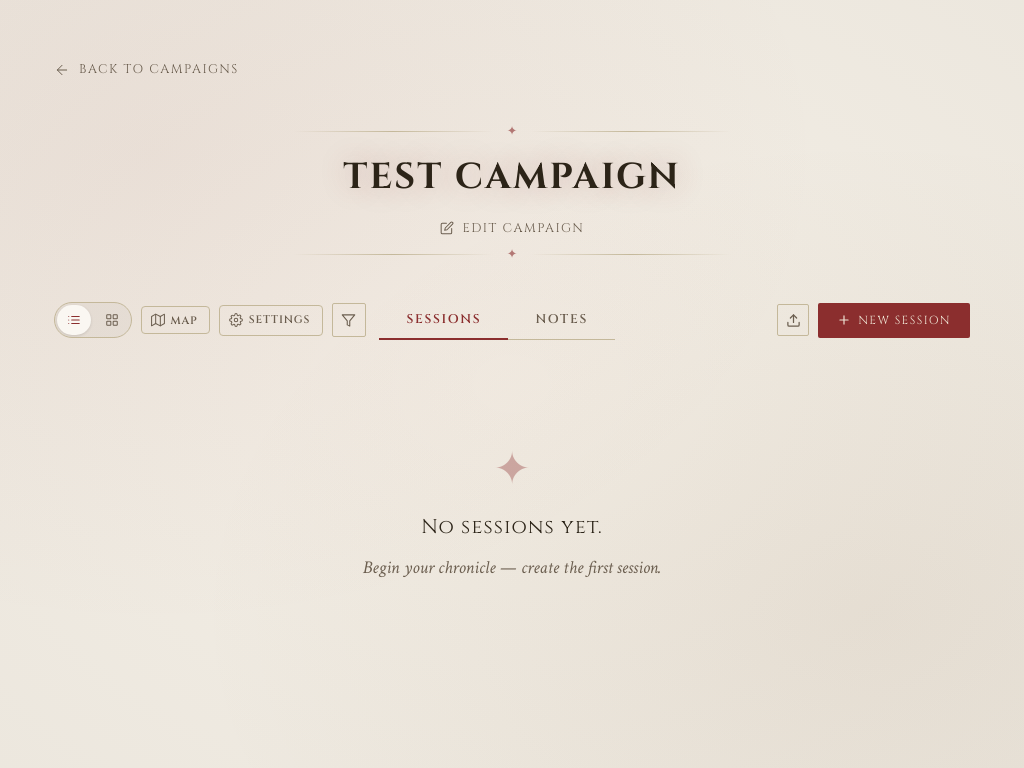
Editor — navigation & toolbar › should close import modal when cancel button is clicked
Click the button titled "Import backup". click: click(793, 320)
box: [777, 304, 809, 336]
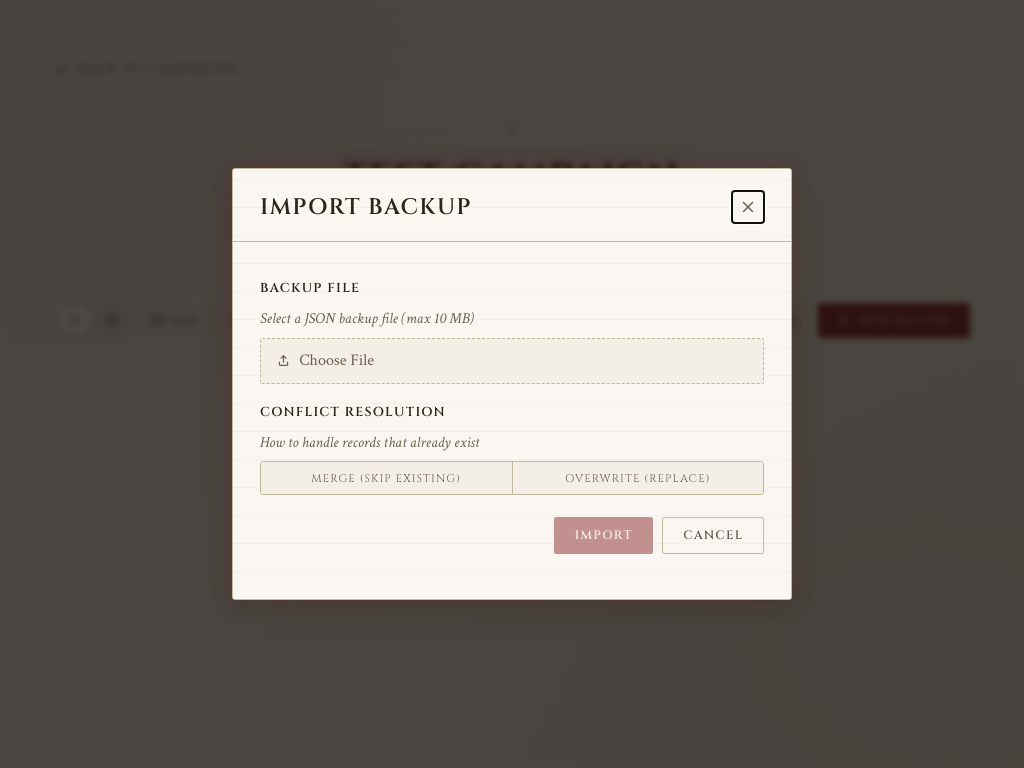
Now the heading "Import Backup" is shown, box [260, 194, 472, 221]
Click the button "Cancel". click: click(713, 536)
box: [662, 517, 764, 554]
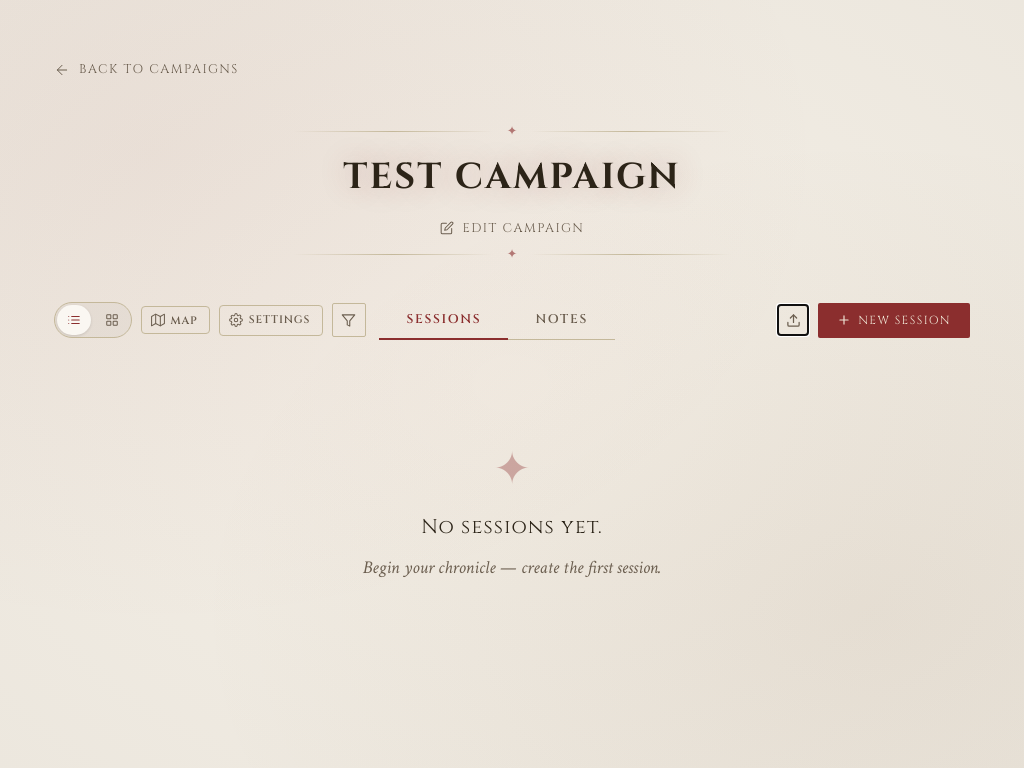
Now the heading "Import Backup" is gone
